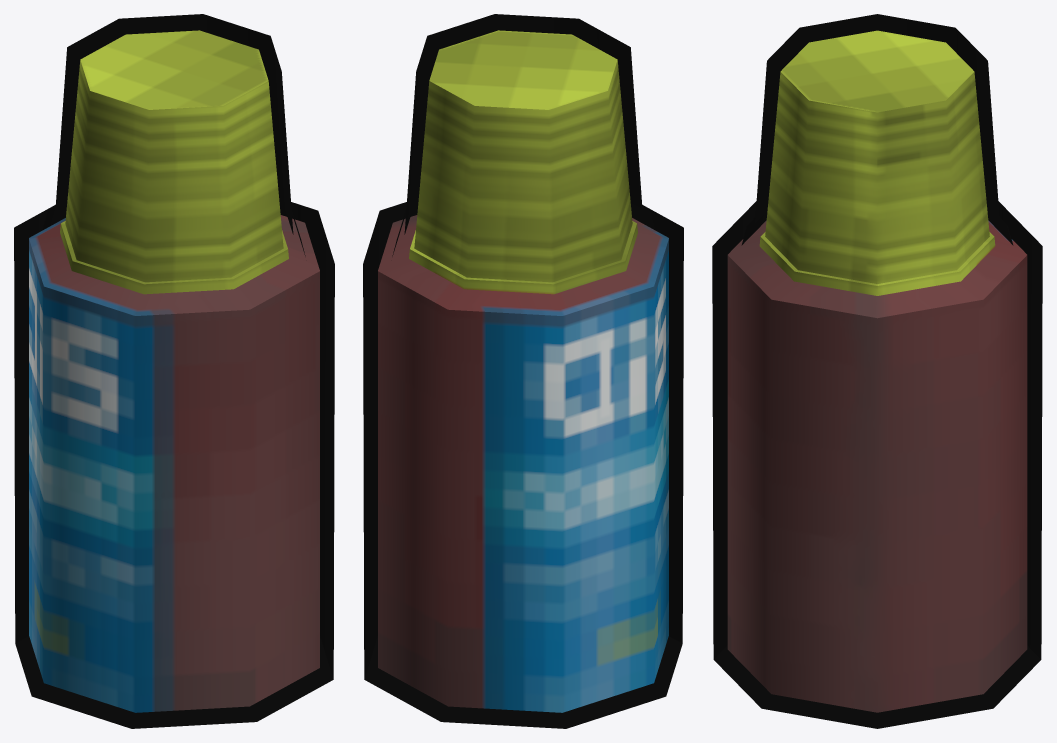
The model's file is Corretivo.glb.
The picture shows the model from 3 angles, left to right: view 1: azimuth 30°, elevation 25°; view 2: azimuth 150°, elevation 25°; view 3: azimuth 270°, elevation 25°; orthographic projection.
Parts seen in each view (by area): view 1: Corretivo; view 2: Corretivo; view 3: Corretivo.
Boxes of the visible parts, x1,y1,x2,y2 form: Corretivo: (14,14,334,728); Corretivo: (363,14,683,728); Corretivo: (712,14,1042,728).
Bounding box in the file's own units: 0.4809 × 0.9807 × 0.4809.
Materials: 2 (1 with a texture image).
